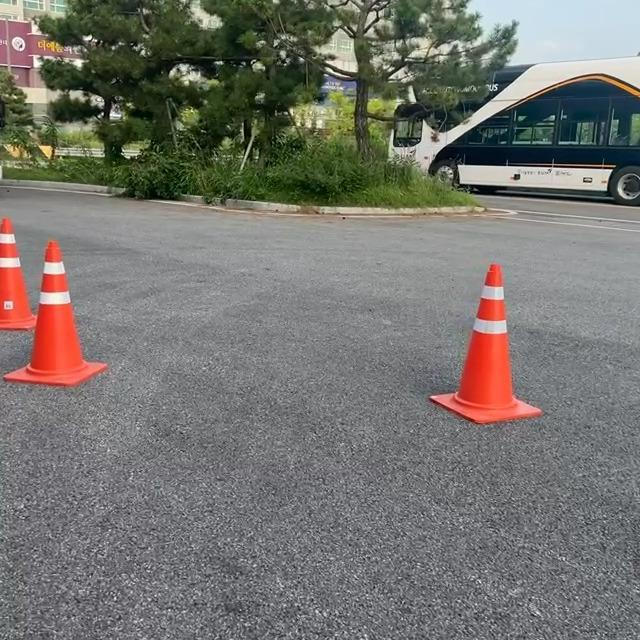fallen_object: (402, 237, 587, 497), (0, 237, 131, 380), (0, 183, 56, 337)
